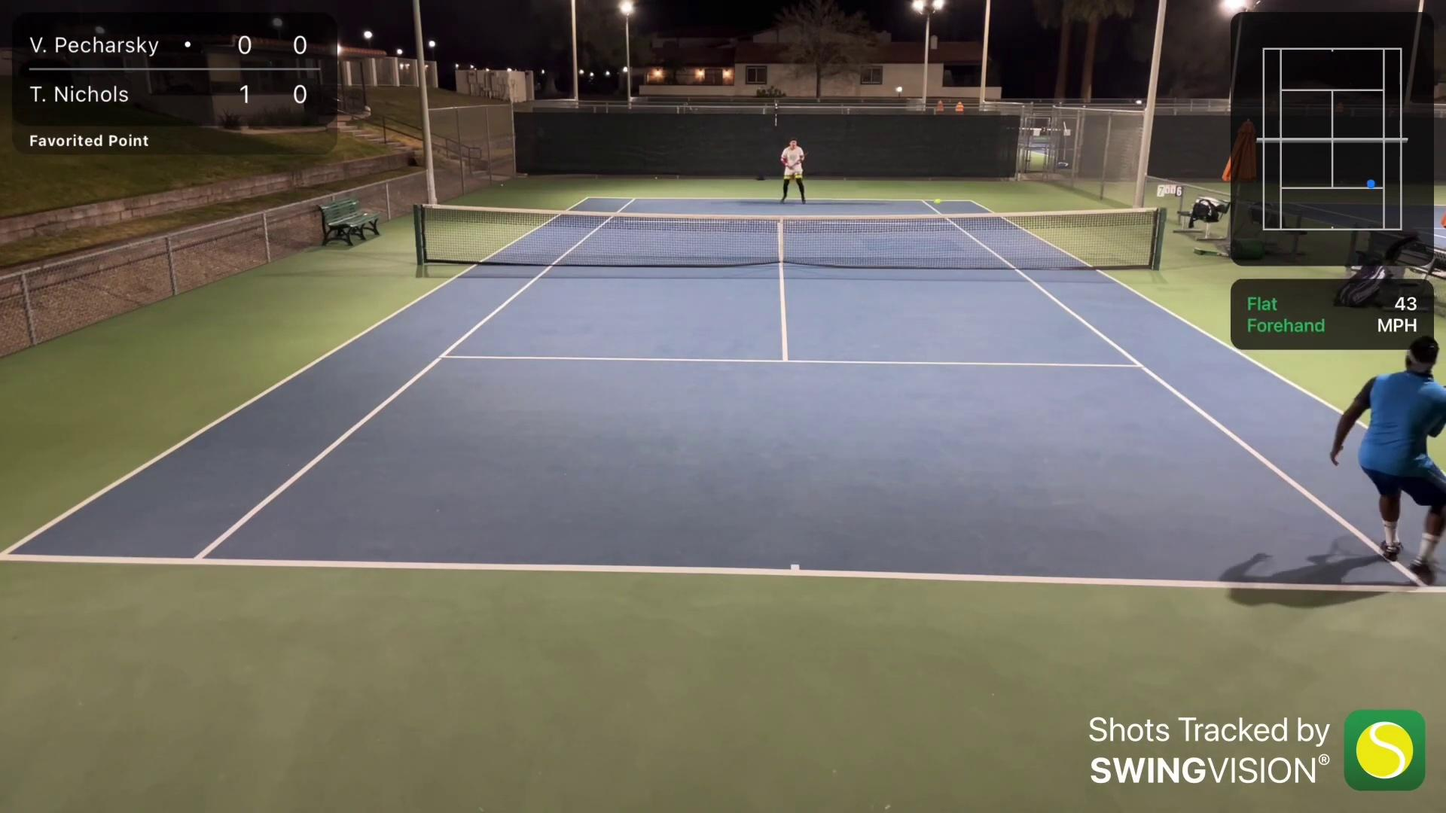ball: (932, 198, 939, 204)
